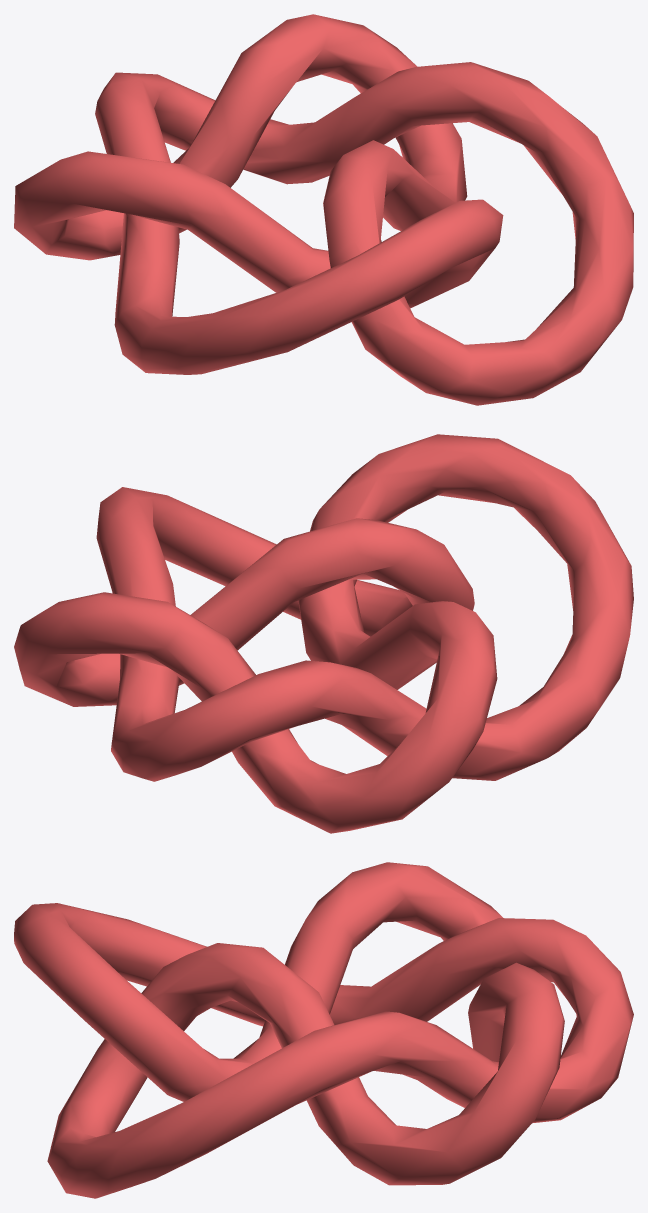
File: knot_sculpture_knot001.gltf
3 views of the same model, one above another, from view 1: azimuth 30°, elevation 25°; view 2: azimuth 150°, elevation 25°; view 3: azimuth 270°, elevation 25° (orthographic). The views are drawn at different scales.
Parts seen in each view (by area): view 1: Knot.001; view 2: Knot.001; view 3: Knot.001.
Part boxes in pixels (box(x1,y1,x2,y2)): Knot.001: box(14, 14, 633, 405); Knot.001: box(14, 434, 633, 833); Knot.001: box(14, 862, 633, 1198).
Size of the model in its own units: 2.29 by 0.9835 by 2.63.
